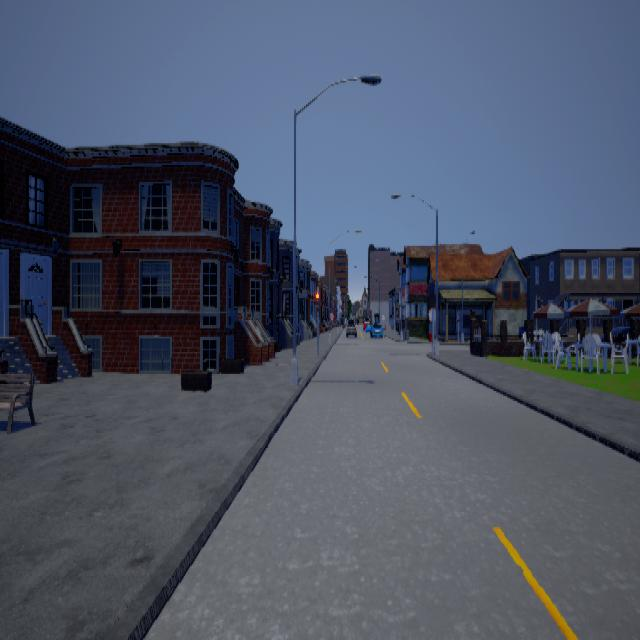red_light: (317, 288, 321, 315)
vehicle: (373, 317, 385, 335), (348, 320, 358, 335)
